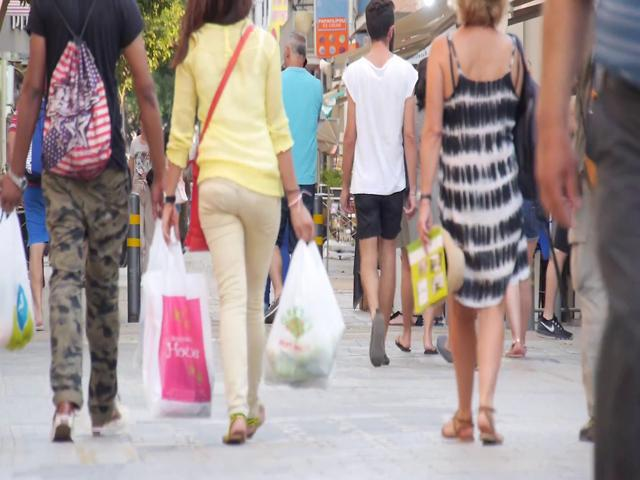shoe: (534, 314, 573, 340), (91, 408, 127, 435), (51, 403, 75, 442), (477, 410, 504, 443), (441, 414, 474, 440), (369, 314, 385, 366), (222, 415, 246, 444), (246, 406, 266, 438)
